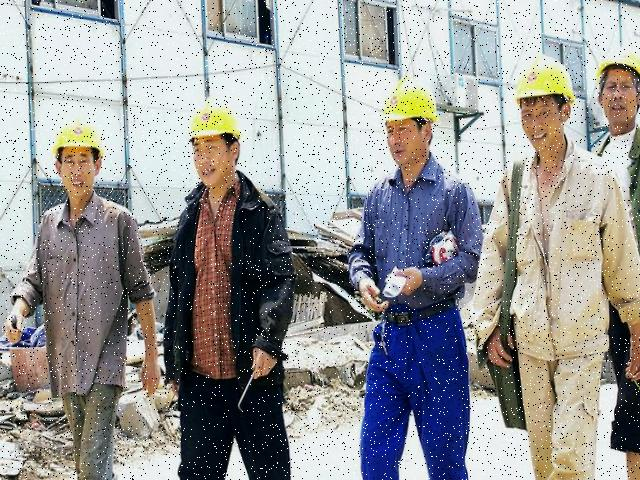Helmet: (378, 70, 443, 130), (514, 48, 578, 108), (186, 94, 244, 154), (51, 114, 108, 163), (595, 42, 640, 95)
